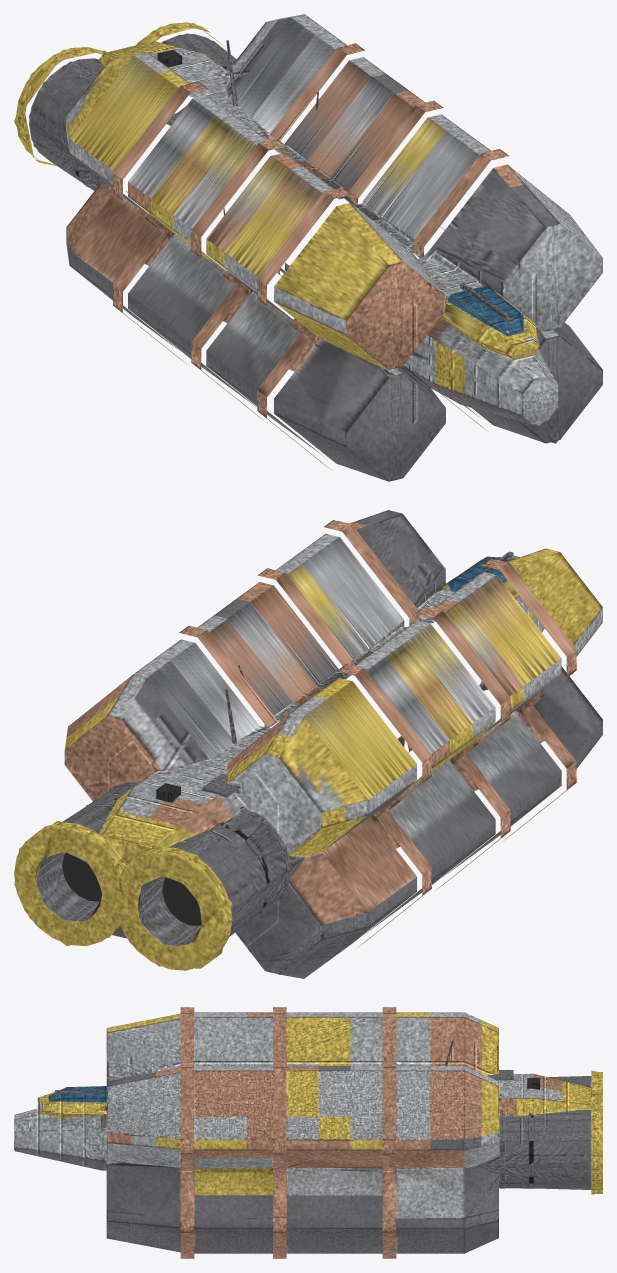
Rendered from sd_npc_tanker.glb.
3 views of the same model, one above another, from view 1: azimuth 30°, elevation 25°; view 2: azimuth 150°, elevation 25°; view 3: azimuth 270°, elevation 25° (orthographic). The views are drawn at different scales.
Parts seen in each view (by area): view 1: LOD0_body, LOD1_body; view 2: LOD0_body, LOD1_body; view 3: LOD0_body, LOD1_body.
Part boxes in pixels (x1,y1,x2,y2): LOD0_body: (16, 14, 602, 479); LOD1_body: (14, 21, 602, 481); LOD0_body: (14, 510, 602, 977); LOD1_body: (14, 510, 602, 978); LOD0_body: (14, 1007, 602, 1258); LOD1_body: (14, 1007, 602, 1258).
Bounding box in the file's own units: 0.4255 × 0.3588 × 1.
1 material, 1 textured.
